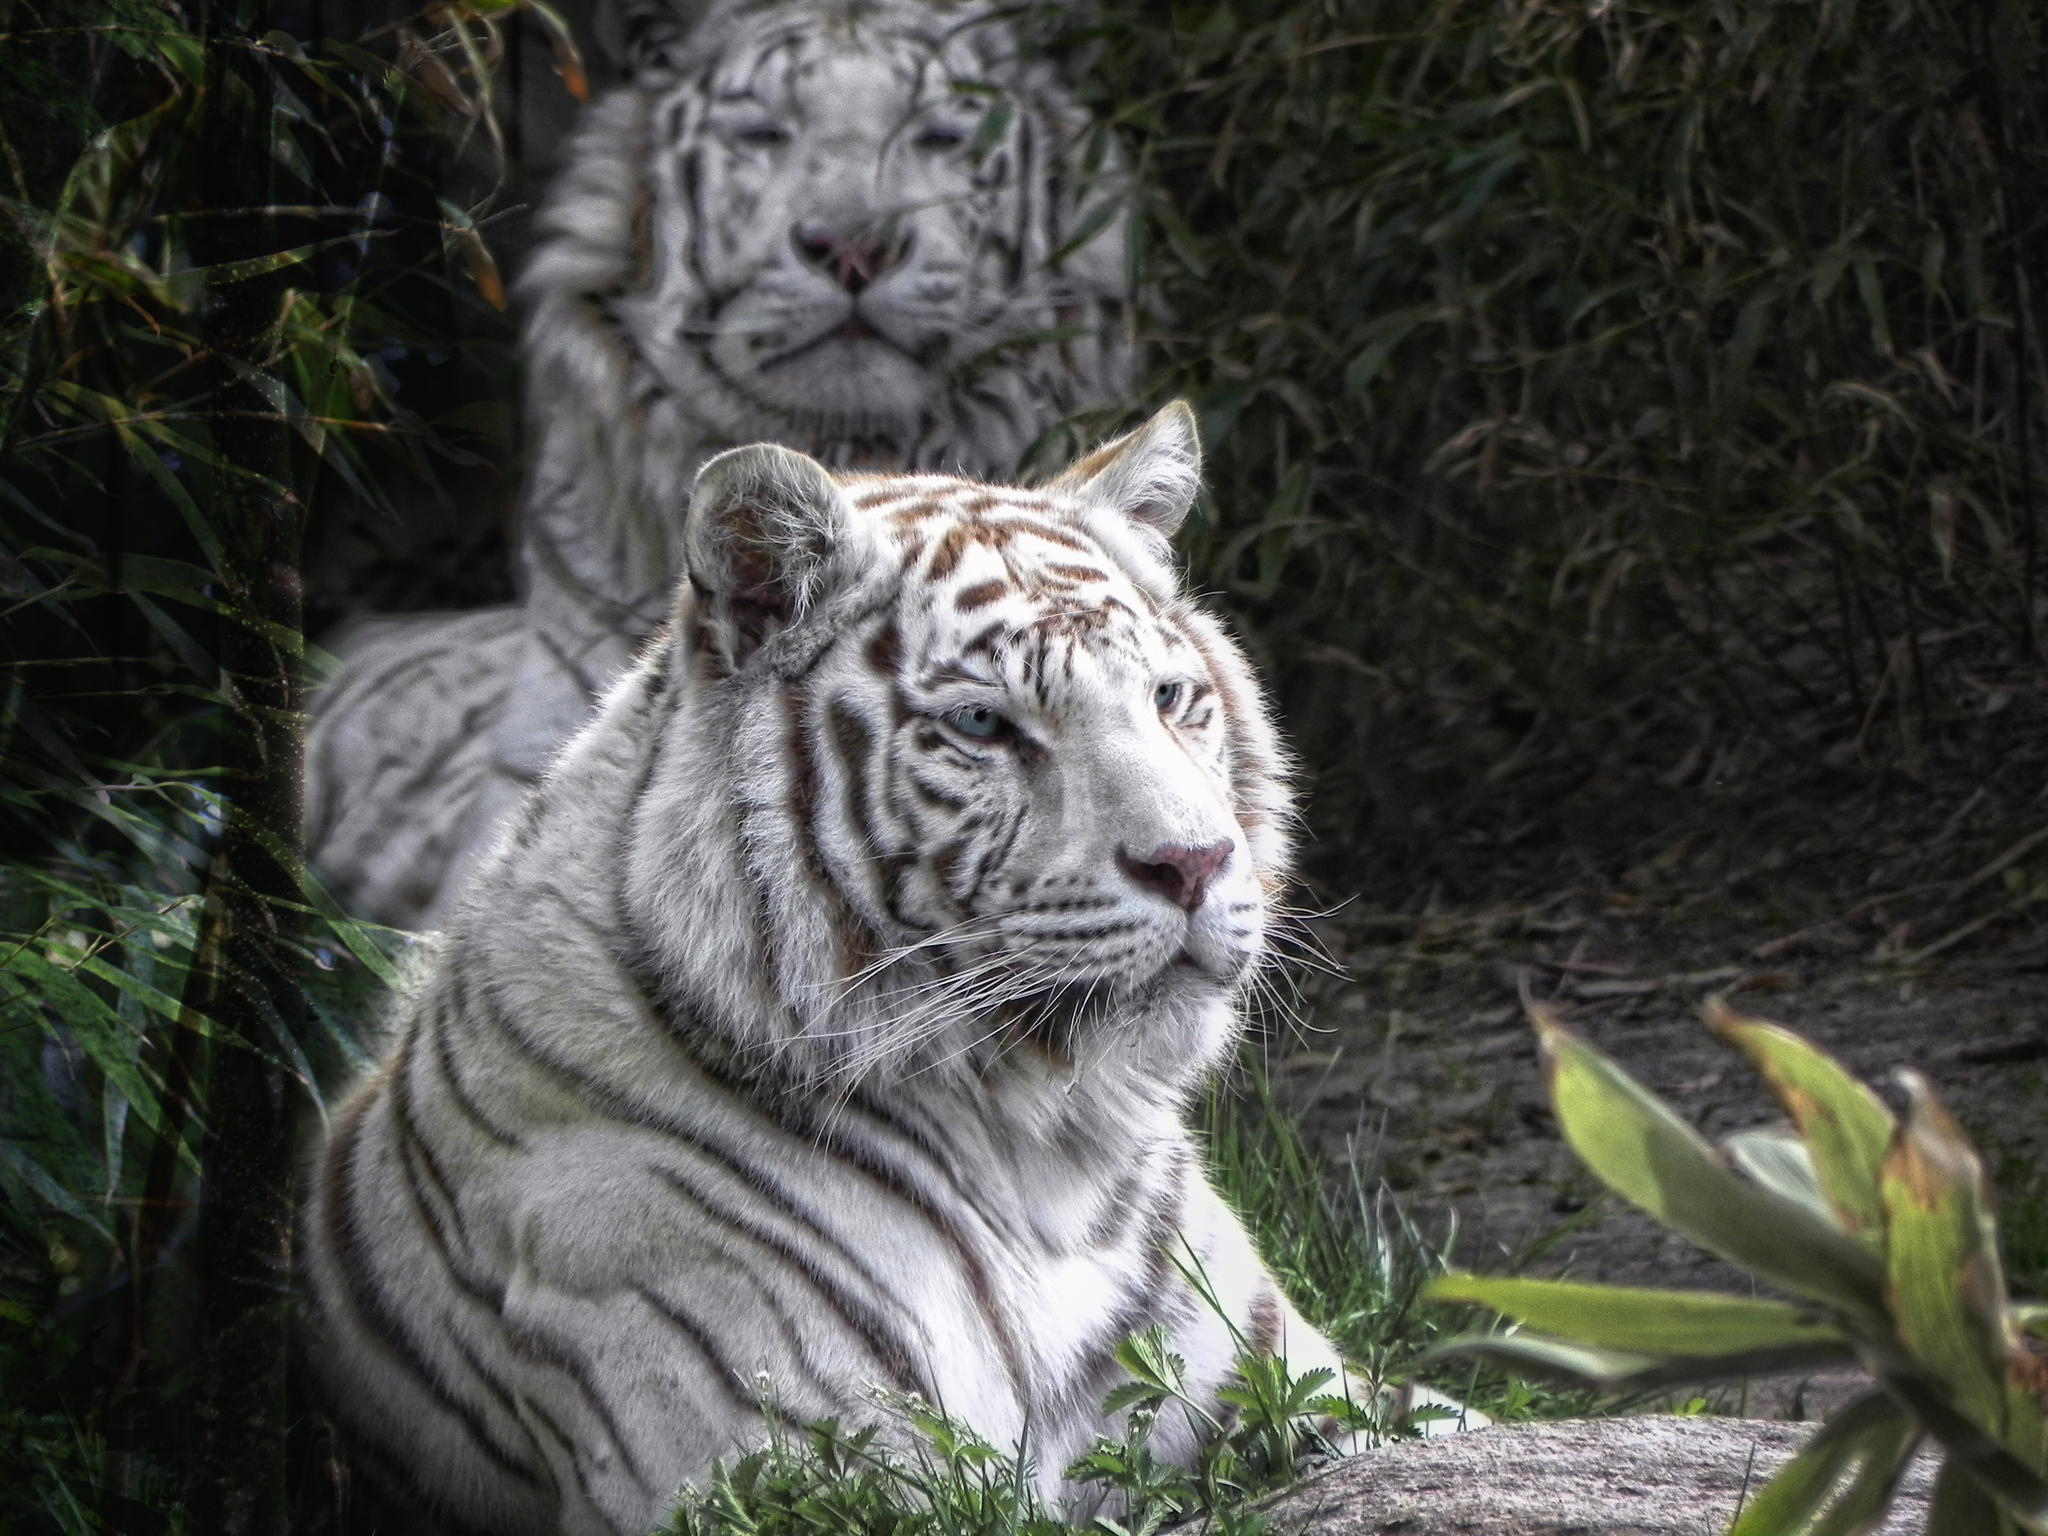tiger: (477, 415, 1450, 1463), (471, 16, 1161, 592)
